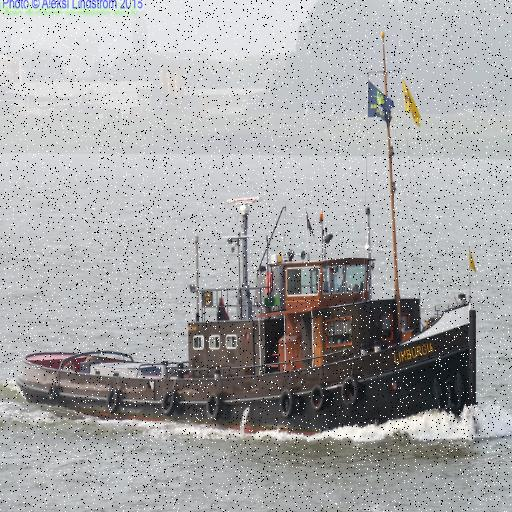tugboat: (12, 191, 482, 454)
